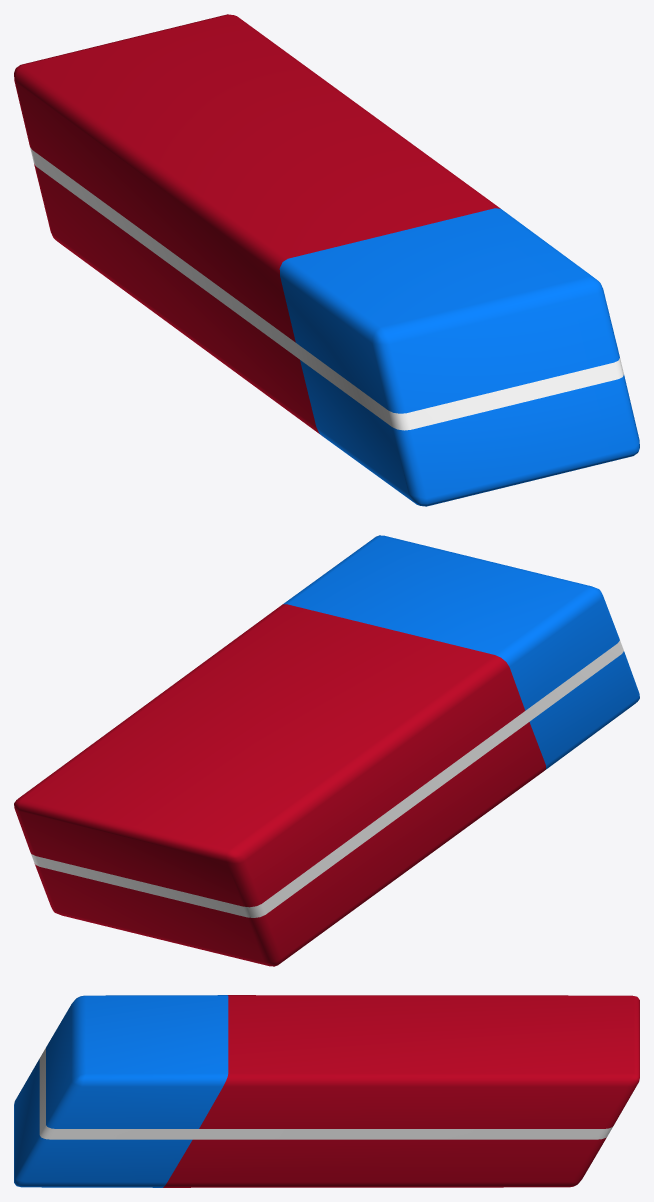
File: Eraser.fbx
The picture shows the model from 3 angles, top to bottom: view 1: azimuth 30°, elevation 25°; view 2: azimuth 150°, elevation 25°; view 3: azimuth 270°, elevation 25°; orthographic projection. The views are drawn at different scales.
Parts seen in each view (by area): view 1: eraser; view 2: eraser; view 3: eraser.
Boxes of the visible parts, box(x1,y1,x2,y2) form: eraser: box(14, 14, 639, 506); eraser: box(14, 535, 639, 966); eraser: box(14, 995, 639, 1187).
Size of the model in its own units: 3.65 by 2.25 by 11.25.
